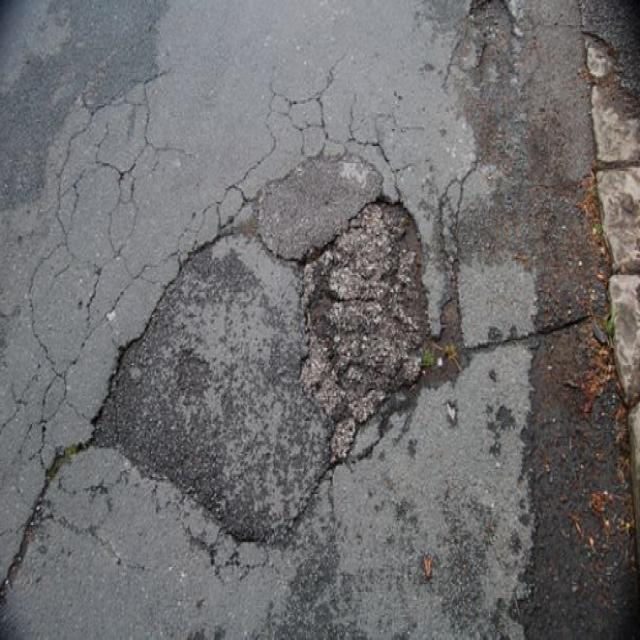pothole: (87, 196, 466, 550)
